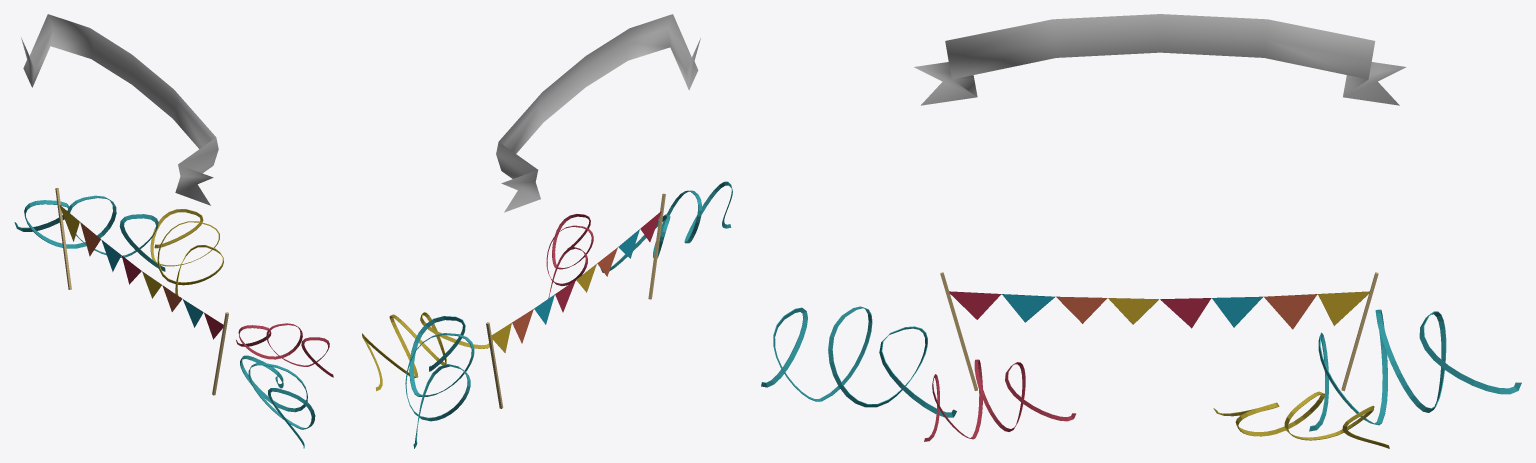
File: SM_TUTO_FINISH.fbx
3 renders of one model, left to right at view 1: azimuth 30°, elevation 25°; view 2: azimuth 150°, elevation 25°; view 3: azimuth 270°, elevation 25°, orthographic. The views are drawn at different scales.
Parts seen in each view (by area): view 1: Plane.004; view 2: Plane.004; view 3: Plane.004.
Part boxes in pixels (box(x1,y1,x2,y2)): Plane.004: box(14, 14, 333, 448); Plane.004: box(362, 14, 732, 448); Plane.004: box(761, 14, 1521, 448).
Size of the model in its own units: 3784 by 6124 by 11398.
